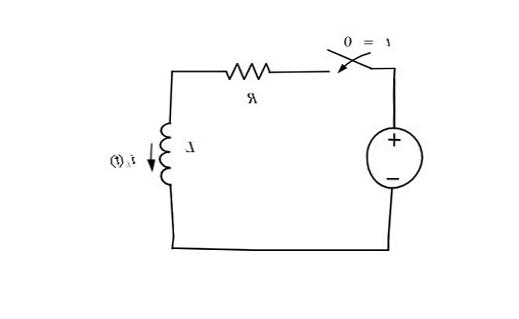Battery: (347, 118, 442, 208)
